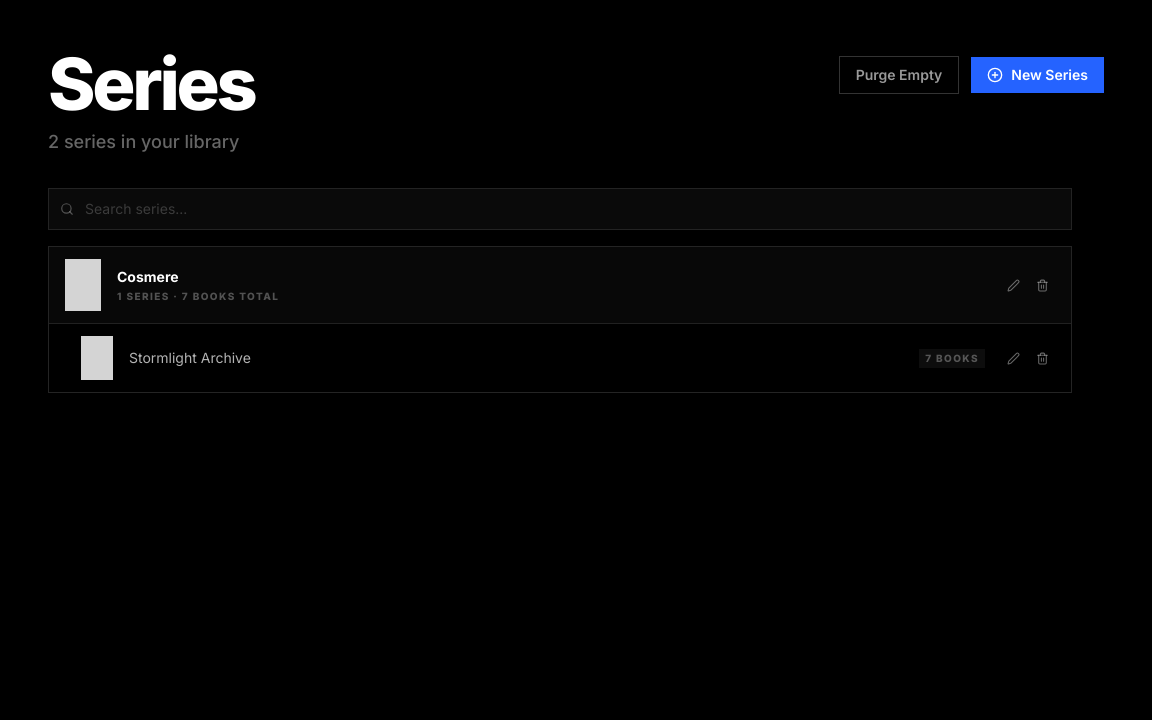
Test: SeriesList › create series button opens modal
Click the button with test id "new-series-btn" at (1038, 75), box x1=971 y1=57 x2=1104 y2=93
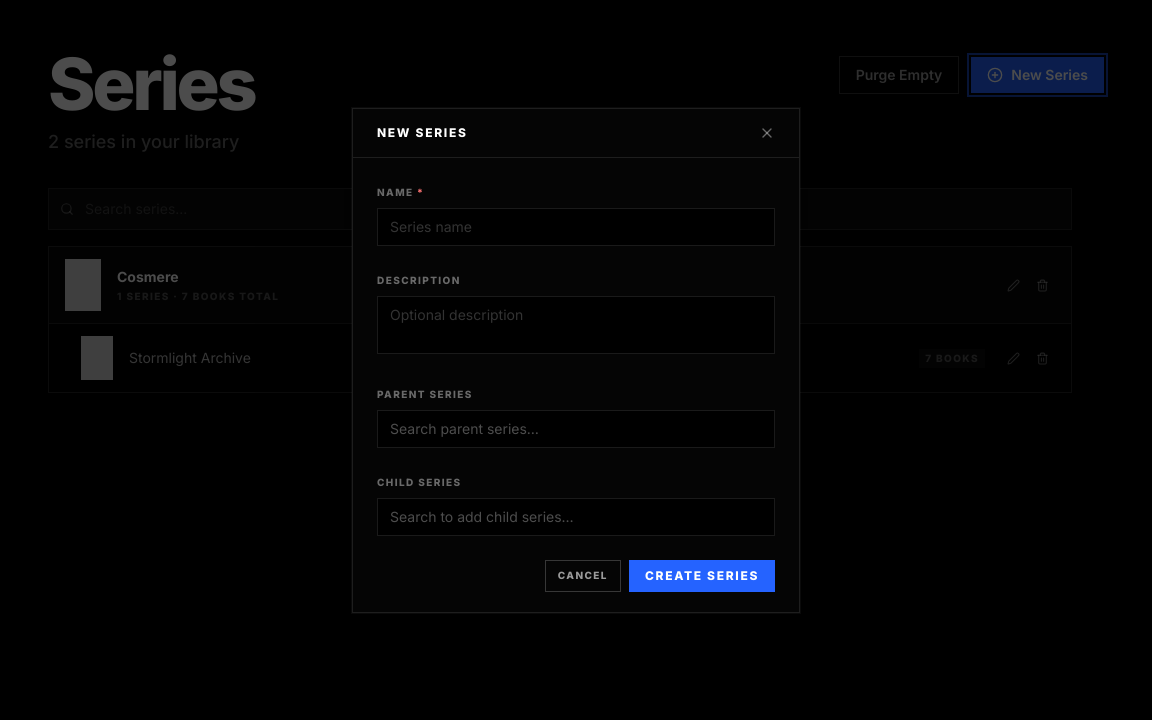
Now the element with test id "series-modal" is shown
